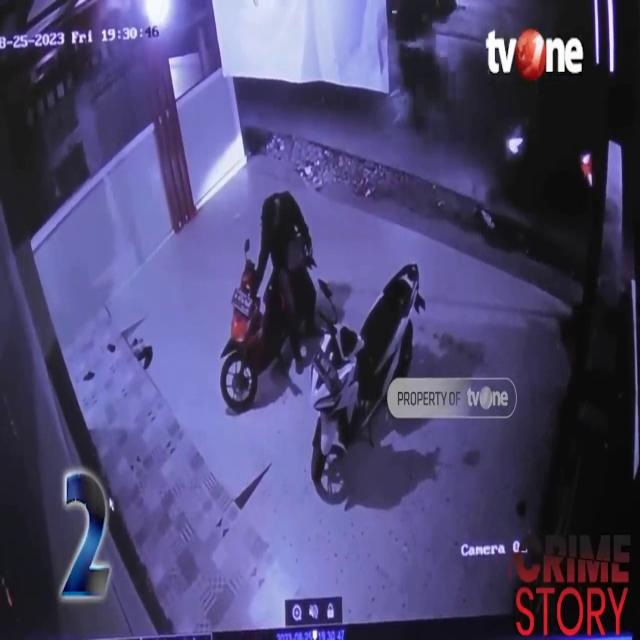pencurian: (220, 190, 290, 406)
